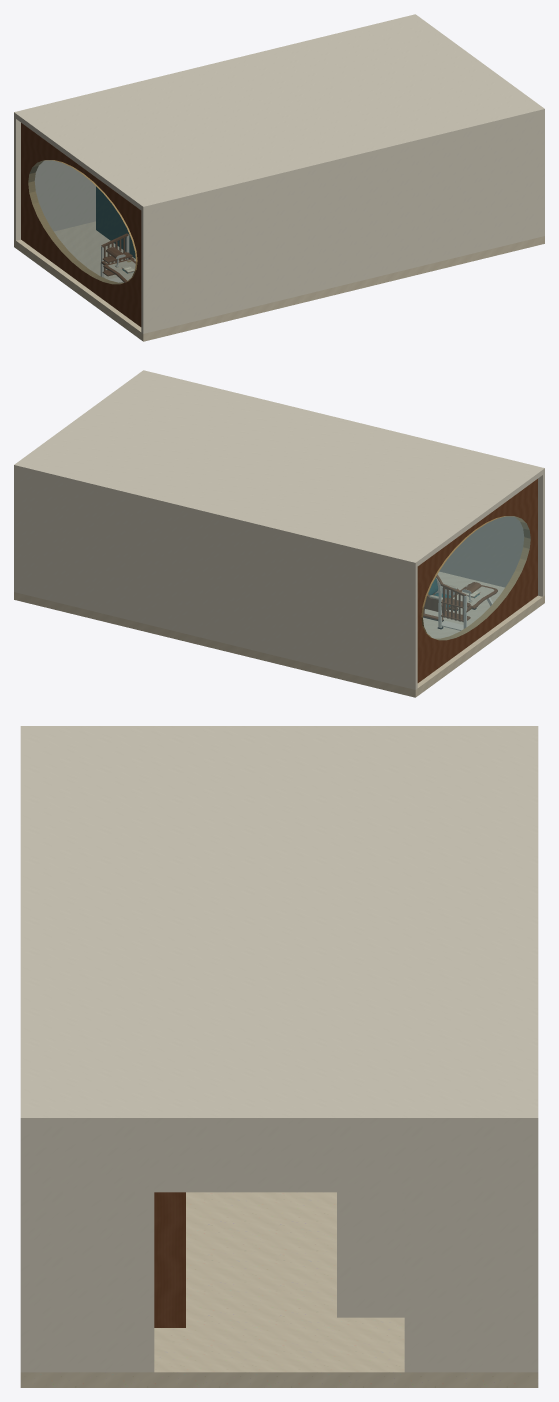
Rendered from QuietGroveSpecialty_391_r001.glb.
The picture shows the model from 3 angles, top to bottom: view 1: azimuth 30°, elevation 25°; view 2: azimuth 150°, elevation 25°; view 3: azimuth 270°, elevation 25°; orthographic projection. The views are drawn at different scales.
Parts seen in each view (by area): view 1: QG391_Ceiling, QG391_NorthSide, QG391_OvalAtriumGlass, QG391_RoomFloor, QG391_OvalWindowReveal, QG391_SouthSide, QG391_OvalDepthReturn, QG391_Cocoon02_RearLiner; view 2: QG391_Ceiling, QG391_SouthSide, QG391_OvalAtriumGlass, QG391_RoomFloor, QG391_OvalWindowReveal, QG391_NorthSide, QG391_OvalDepthReturn; view 3: QG391_Ceiling, QG391_RoomFloor, QG391_EntryShoulderSouth, QG391_EntryShoulderNorth, QG391_EntryHeader, QG391_WashEntrySide, QG391_EntryPrivacyDogleg, QG391_NorthSide, QG391_SouthSide.
Boxes of the visible parts, x1=… form: QG391_Ceiling: x1=14, y1=14, x2=544, y2=211; QG391_NorthSide: x1=141, y1=114, x2=544, y2=333; QG391_OvalAtriumGlass: x1=28, y1=160, x2=135, y2=283; QG391_RoomFloor: x1=14, y1=221, x2=544, y2=341; QG391_OvalWindowReveal: x1=21, y1=123, x2=141, y2=326; QG391_SouthSide: x1=14, y1=117, x2=95, y2=240; QG391_OvalDepthReturn: x1=28, y1=160, x2=137, y2=284; QG391_Cocoon02_RearLiner: x1=97, y1=188, x2=135, y2=258; QG391_Ceiling: x1=14, y1=370, x2=544, y2=567; QG391_SouthSide: x1=14, y1=470, x2=417, y2=689; QG391_OvalAtriumGlass: x1=423, y1=516, x2=530, y2=639; QG391_RoomFloor: x1=14, y1=571, x2=544, y2=697; QG391_OvalWindowReveal: x1=417, y1=479, x2=537, y2=682; QG391_NorthSide: x1=439, y1=473, x2=544, y2=596; QG391_OvalDepthReturn: x1=421, y1=516, x2=530, y2=640; QG391_Ceiling: x1=20, y1=726, x2=538, y2=1128; QG391_RoomFloor: x1=20, y1=1192, x2=538, y2=1387; QG391_EntryShoulderSouth: x1=404, y1=1128, x2=529, y2=1372; QG391_EntryShoulderNorth: x1=29, y1=1128, x2=154, y2=1372; QG391_EntryHeader: x1=150, y1=1128, x2=408, y2=1192; QG391_WashEntrySide: x1=337, y1=1192, x2=404, y2=1317; QG391_EntryPrivacyDogleg: x1=154, y1=1192, x2=185, y2=1327; QG391_NorthSide: x1=20, y1=1128, x2=29, y2=1372; QG391_SouthSide: x1=529, y1=1128, x2=538, y2=1372.
Size of the model in its own units: 12.9 by 4.14 by 7.2.
67 materials, 43 textured.
